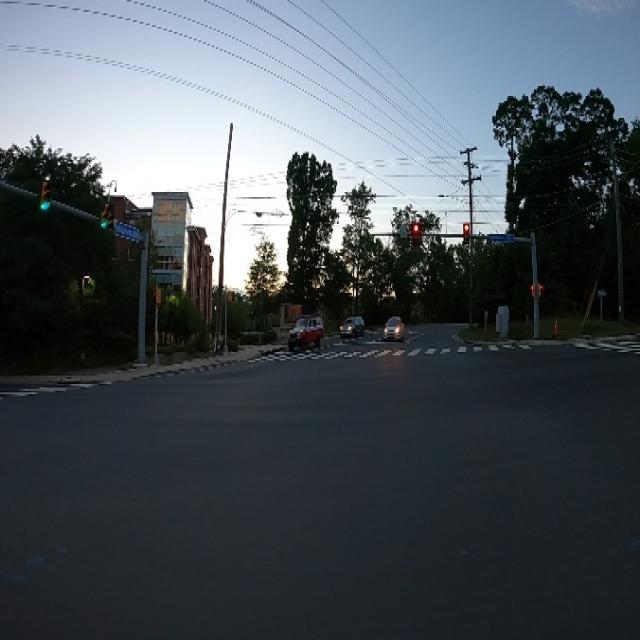cars: (286, 313, 323, 367), (338, 311, 366, 344), (385, 308, 406, 345)
